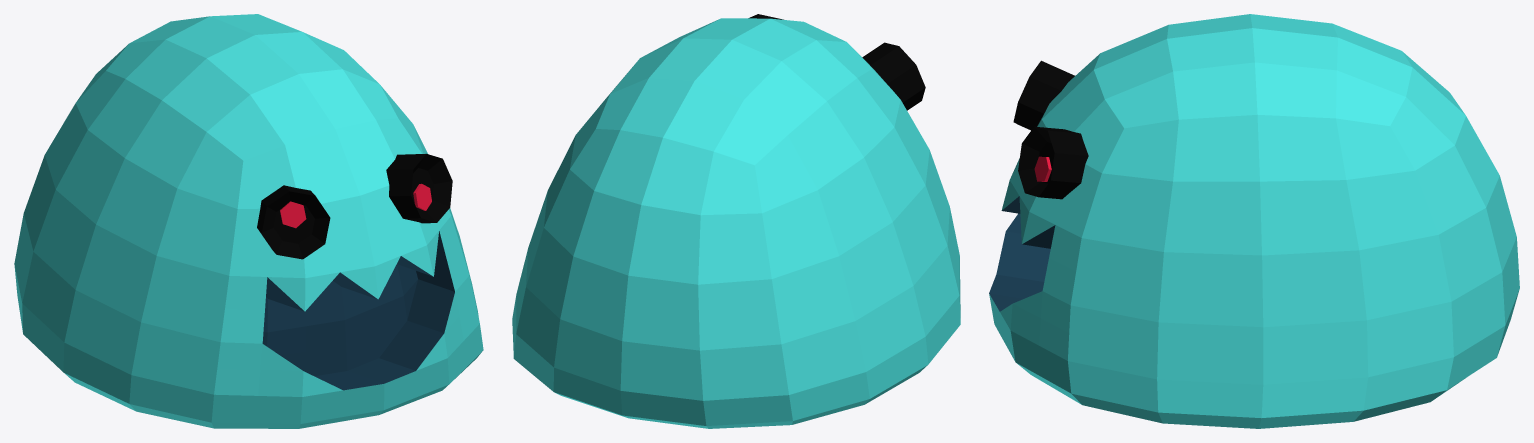
Rendered from Slime.fbx.
3 views of the same model, side by side, from view 1: azimuth 30°, elevation 25°; view 2: azimuth 150°, elevation 25°; view 3: azimuth 270°, elevation 25° (orthographic). The views are drawn at different scales.
Visible parts, largest first — view 1: Slime; view 2: Slime; view 3: Slime.
Part boxes in pixels (box(x1,y1,x2,y2)): Slime: box(14, 14, 483, 428); Slime: box(512, 14, 960, 428); Slime: box(989, 14, 1519, 428).
Bounding box in the file's own units: 800 × 602 × 931.
